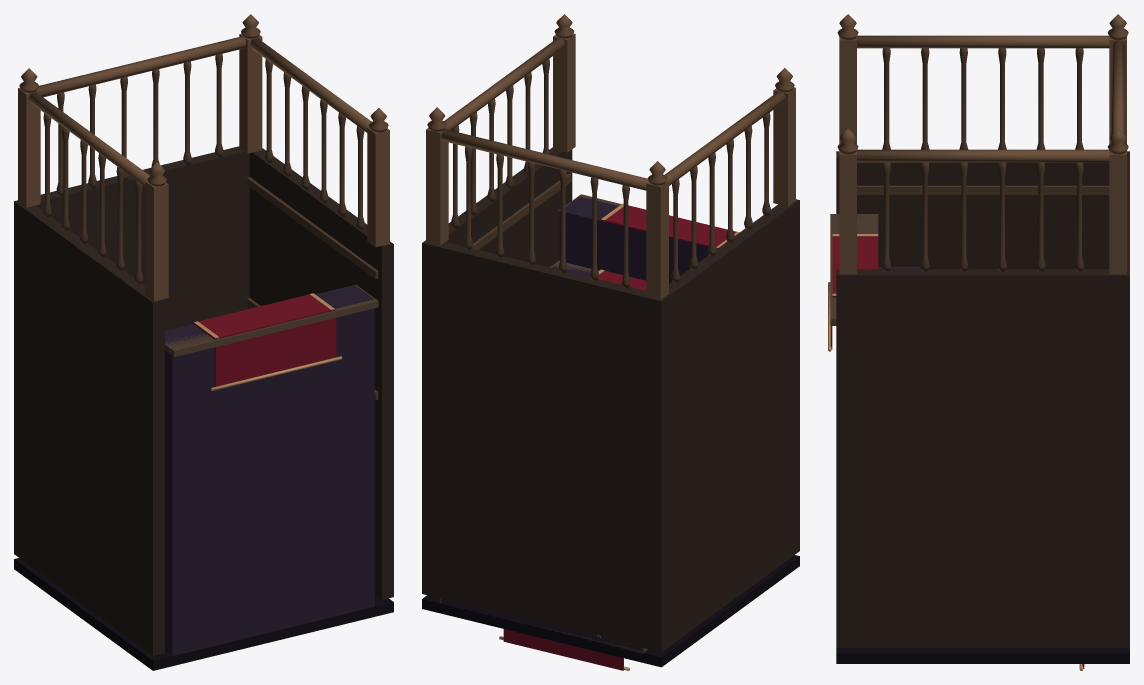
Rendered from stairs_down.glb.
3 views of the same model, side by side, from view 1: azimuth 30°, elevation 25°; view 2: azimuth 150°, elevation 25°; view 3: azimuth 270°, elevation 25° (orthographic). The views are drawn at different scales.
Visible parts, largest first — view 1: stairs_down; view 2: stairs_down; view 3: stairs_down.
Part boxes in pixels (<box>): stairs_down: <box>14,14,393,670</box>; stairs_down: <box>422,14,799,670</box>; stairs_down: <box>828,14,1129,670</box>.
Bounding box in the file's own units: 1 × 2.13 × 1.03.
